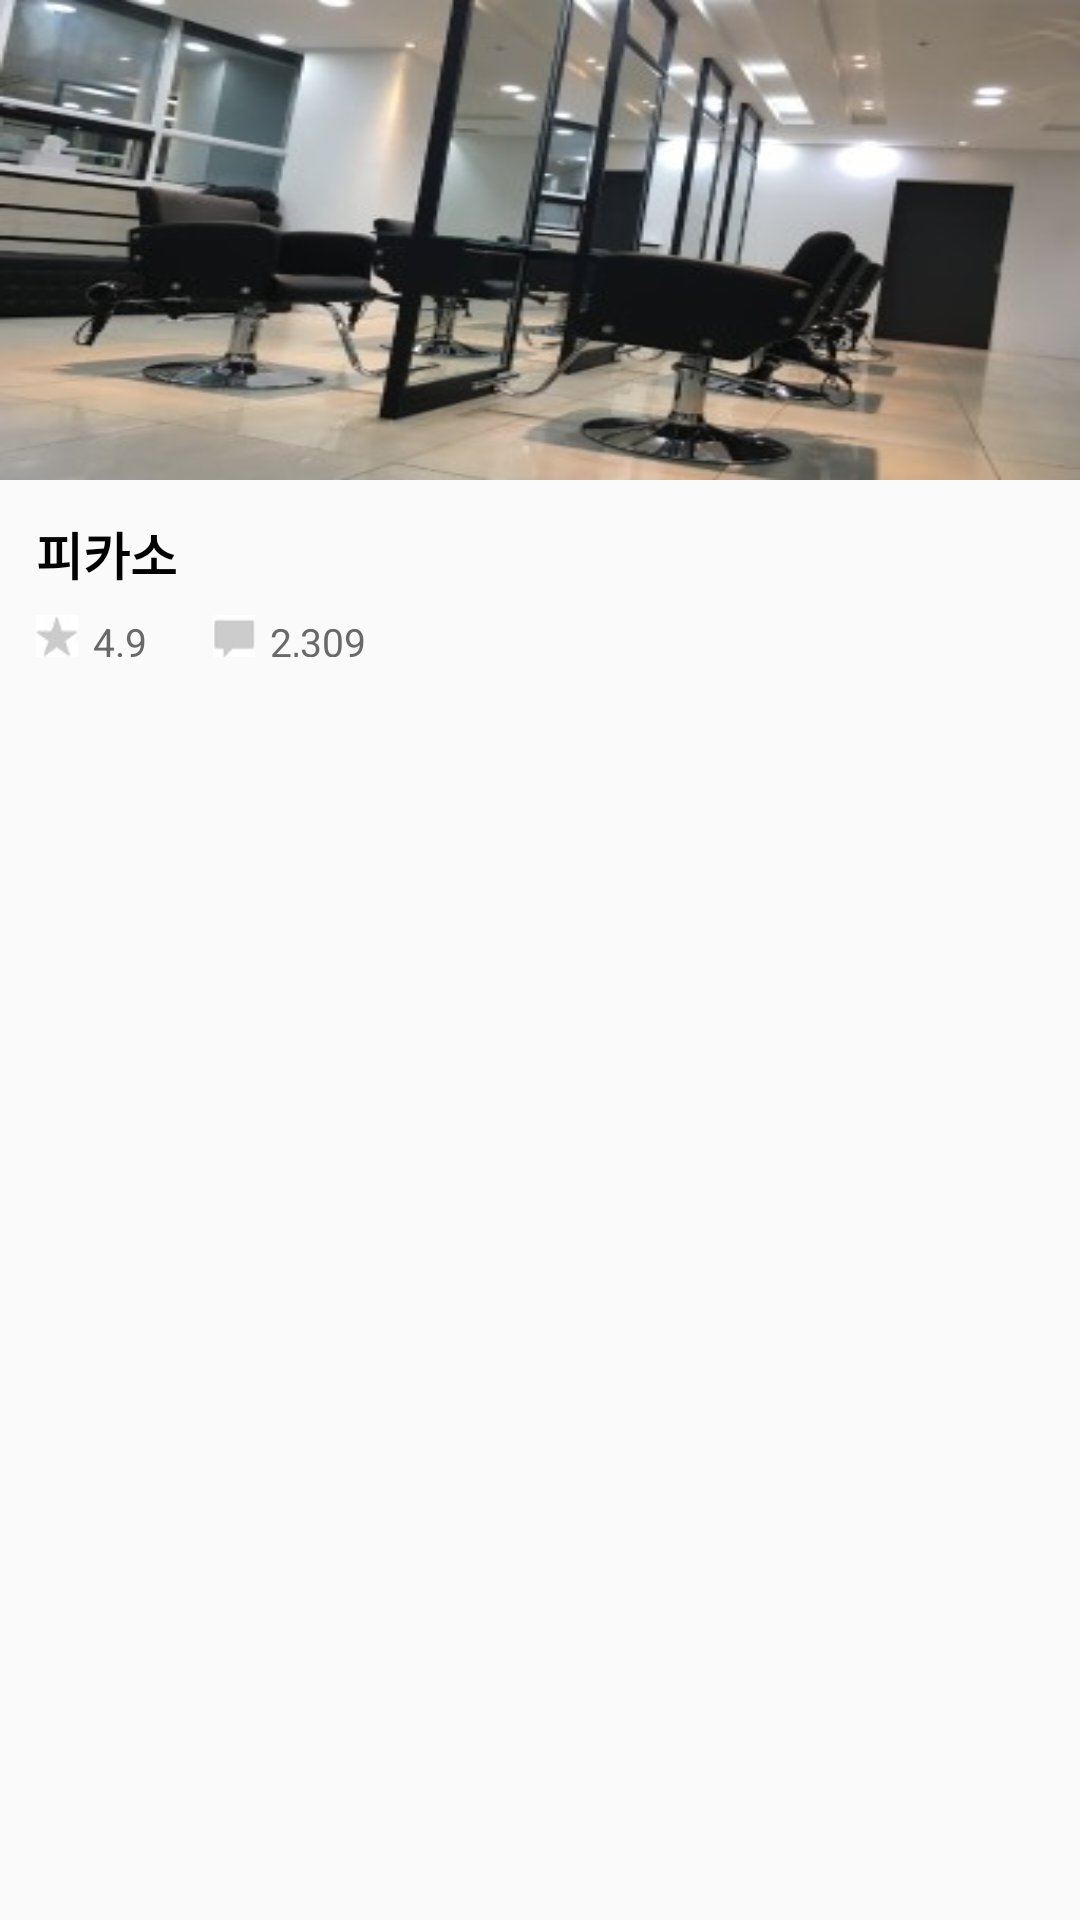

Screen size 1080 × 1920. Icon name, then its box in pixels as (x1, y1, x2, y2):
message: (214, 620, 254, 657)
star: (37, 617, 77, 656)
